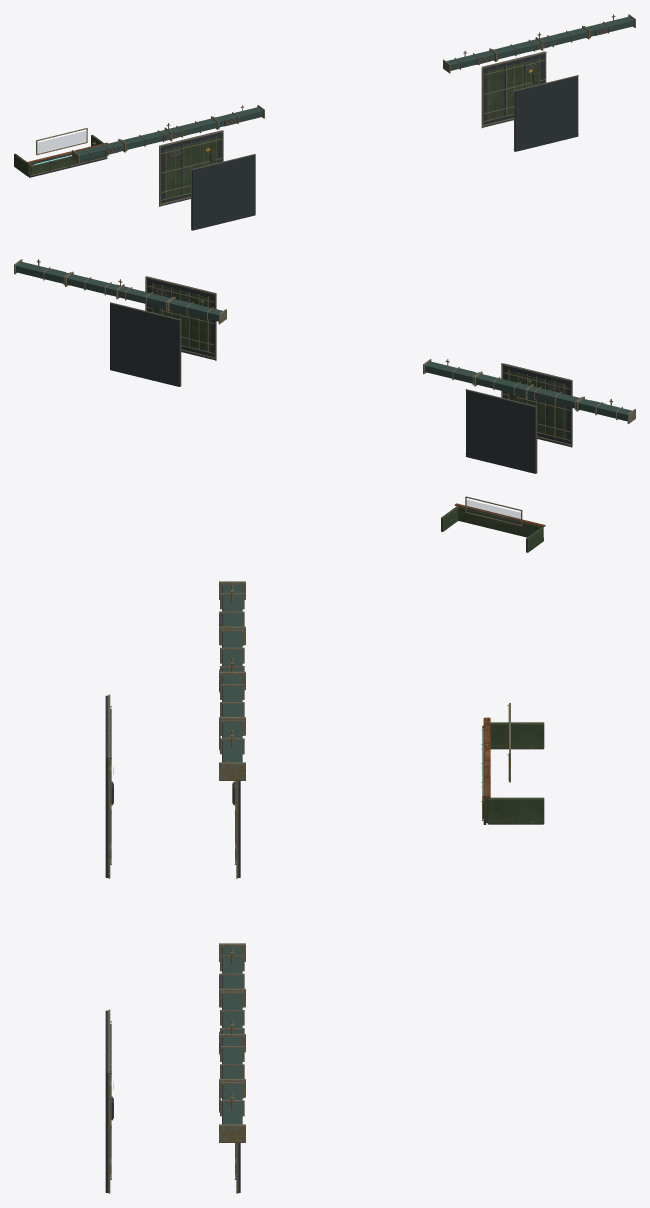
The model's file is level1_art3a1_kit.glb.
3 views of the same model, one above another, from view 1: azimuth 30°, elevation 25°; view 2: azimuth 150°, elevation 25°; view 3: azimuth 270°, elevation 25° (orthographic). The views are drawn at different scales.
Parts seen in each view (by area): view 1: ART3A1_MERGED_DarkMetal, ART3A1_MERGED_GreenPaint, ART3A1_MERGED_Steel, ART3A1_MERGED_DuctPaint, ART3A1_MERGED_Glass; view 2: ART3A1_MERGED_DarkMetal, ART3A1_MERGED_DuctPaint, ART3A1_MERGED_GreenPaint, ART3A1_MERGED_Steel, ART3A1_MERGED_Glass; view 3: ART3A1_MERGED_Steel, ART3A1_MERGED_DuctPaint, ART3A1_MERGED_GreenPaint, ART3A1_MERGED_DarkMetal.
Part boxes in pixels (x1=…): ART3A1_MERGED_DarkMetal: x1=29, y1=27, x2=608, y2=230; ART3A1_MERGED_GreenPaint: x1=14, y1=58, x2=540, y2=199; ART3A1_MERGED_Steel: x1=30, y1=14, x2=635, y2=230; ART3A1_MERGED_DuctPaint: x1=75, y1=16, x2=634, y2=161; ART3A1_MERGED_Glass: x1=37, y1=131, x2=86, y2=152; ART3A1_MERGED_DarkMetal: x1=51, y1=268, x2=635, y2=541; ART3A1_MERGED_DuctPaint: x1=16, y1=261, x2=631, y2=421; ART3A1_MERGED_GreenPaint: x1=151, y1=284, x2=566, y2=552; ART3A1_MERGED_Steel: x1=14, y1=259, x2=635, y2=526; ART3A1_MERGED_Glass: x1=467, y1=500, x2=520, y2=524; ART3A1_MERGED_Steel: x1=108, y1=581, x2=510, y2=1193; ART3A1_MERGED_DuctPaint: x1=222, y1=585, x2=242, y2=1124; ART3A1_MERGED_GreenPaint: x1=113, y1=722, x2=544, y2=1118; ART3A1_MERGED_DarkMetal: x1=105, y1=611, x2=508, y2=1192.
Size of the model in its own units: 30.07 by 4.26 by 10.23.
Materials: 8 (3 with a texture image).
